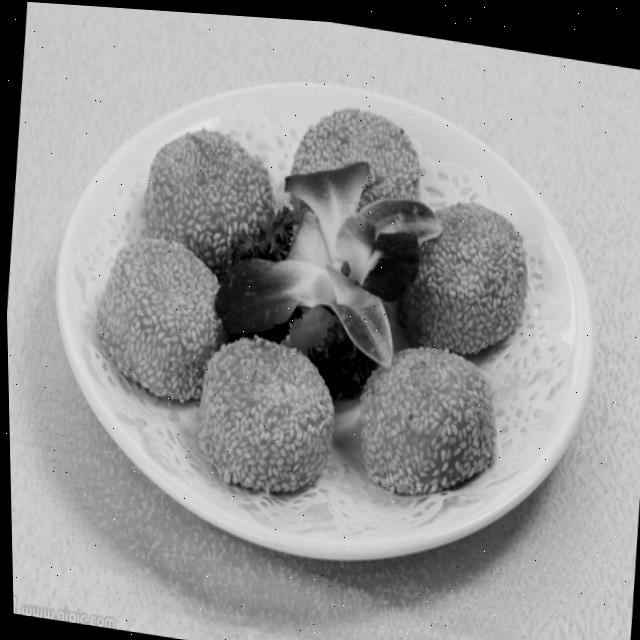炸货点心: (46, 50, 583, 565)
蛋糕甜品: (46, 50, 583, 565)
